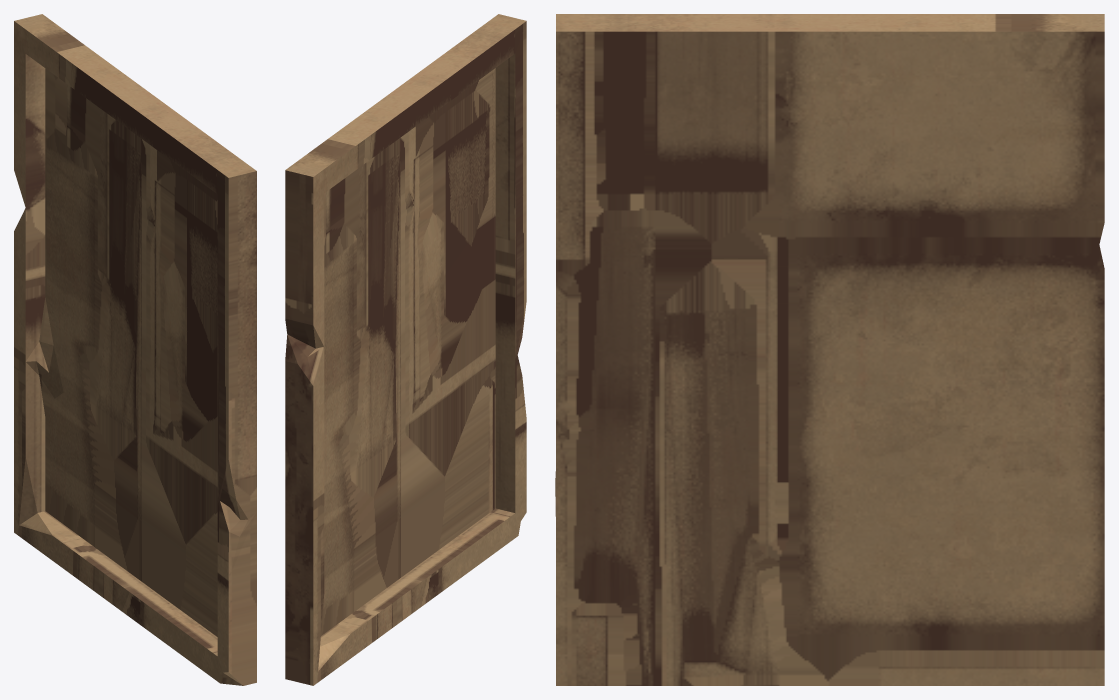
The model's file is Puzzle 2 Tablet .fbx.
The picture shows the model from 3 angles, left to right: view 1: azimuth 30°, elevation 25°; view 2: azimuth 150°, elevation 25°; view 3: azimuth 270°, elevation 25°; orthographic projection. The views are drawn at different scales.
Visible parts, largest first — view 1: Plane.005; view 2: Plane.005; view 3: Plane.005.
Part boxes in pixels (<box>): Plane.005: <box>14,14,256,685</box>; Plane.005: <box>285,14,526,685</box>; Plane.005: <box>555,14,1104,685</box>.
Size of the model in its own units: 42.94 by 719 by 547.
1 material, 1 textured.
